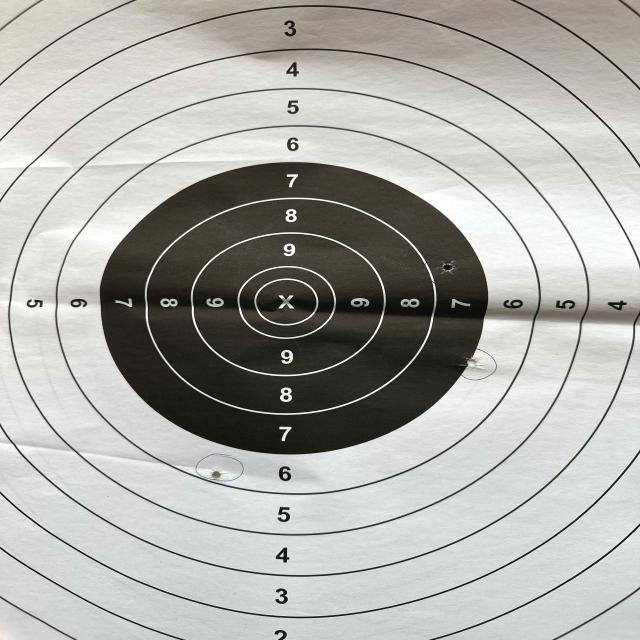bullet: (463, 356, 479, 368), (209, 469, 223, 479), (443, 261, 454, 271)
target: (0, 0, 640, 640)
